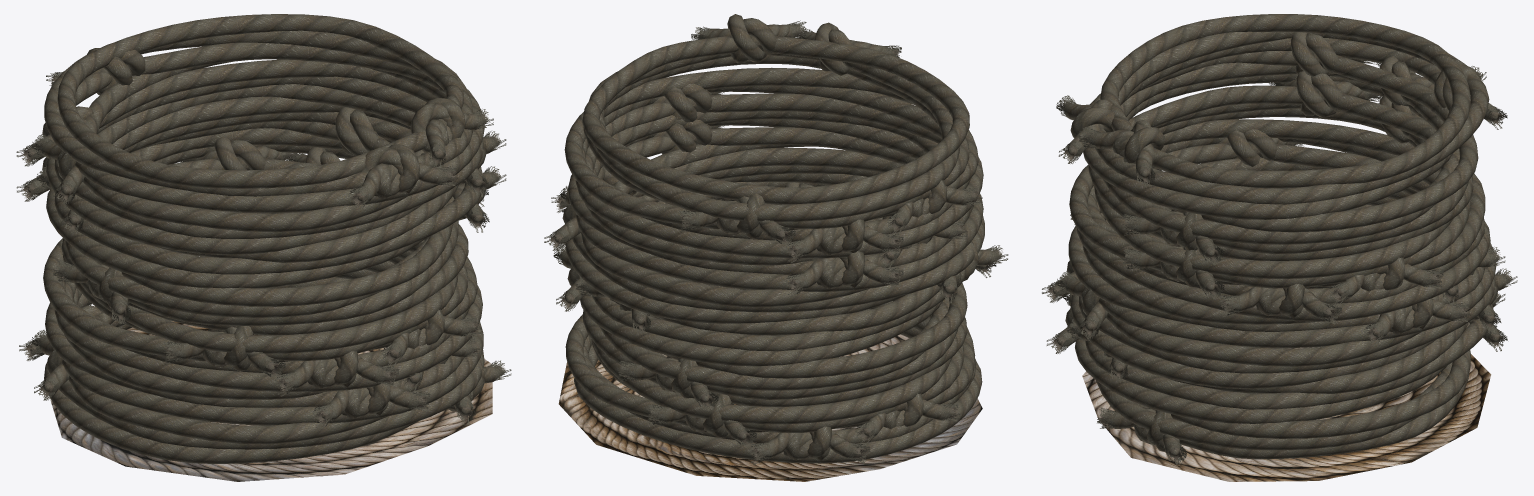
The model's file is cesto2.fbx.
3 views of the same model, side by side, from view 1: azimuth 30°, elevation 25°; view 2: azimuth 150°, elevation 25°; view 3: azimuth 270°, elevation 25° (orthographic). The views are drawn at different scales.
Parts seen in each view (by area): view 1: SM_SM_Cesto_LOD0.002, Plane.001; view 2: SM_SM_Cesto_LOD0.002, Plane.001; view 3: SM_SM_Cesto_LOD0.002, Plane.001.
Part boxes in pixels (x1=…): SM_SM_Cesto_LOD0.002: x1=16, y1=14, x2=511, y2=463; Plane.001: x1=50, y1=321, x2=492, y2=481; SM_SM_Cesto_LOD0.002: x1=544, y1=14, x2=1008, y2=464; Plane.001: x1=558, y1=334, x2=982, y2=481; SM_SM_Cesto_LOD0.002: x1=1042, y1=14, x2=1517, y2=464; Plane.001: x1=1082, y1=347, x2=1491, y2=481.
Bounding box in the file's own units: 190 × 190 × 136.
Materials: 2 (2 with a texture image).
